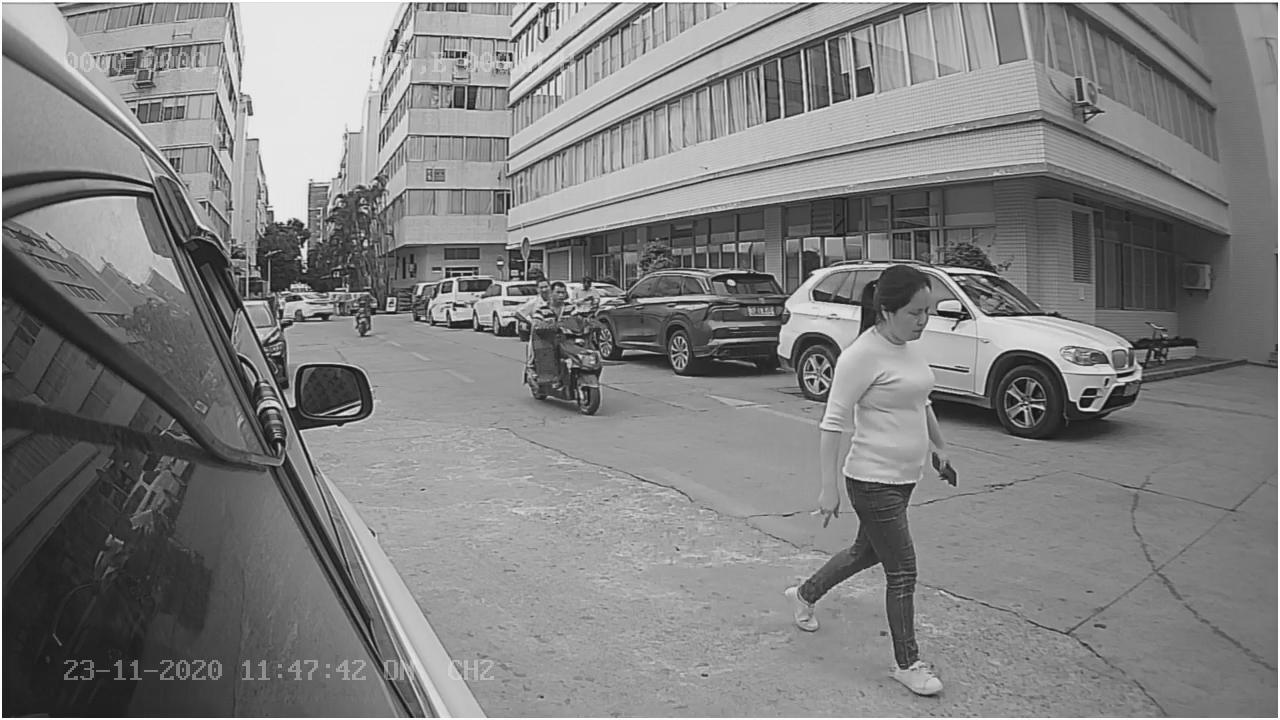person: (783, 263, 968, 695)
